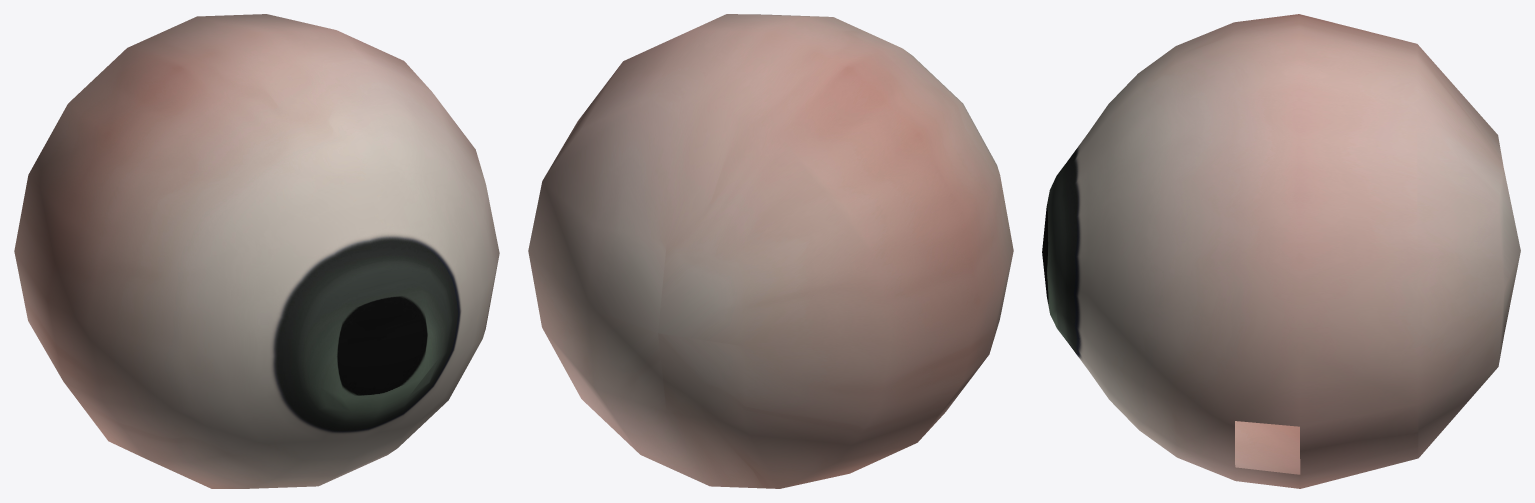
The model's file is lowpoly_eye_01.glb.
3 views of the same model, side by side, from view 1: azimuth 30°, elevation 25°; view 2: azimuth 150°, elevation 25°; view 3: azimuth 270°, elevation 25° (orthographic).
Parts seen in each view (by area): view 1: Silme; view 2: Silme; view 3: Silme.
Boxes of the visible parts, x1,y1,x2,y2 form: Silme: (14,14,499,488); Silme: (528,14,1013,488); Silme: (1042,14,1520,488).
Size of the model in its own units: 0.0356 by 0.0356 by 0.0359.
1 material, 1 textured.
